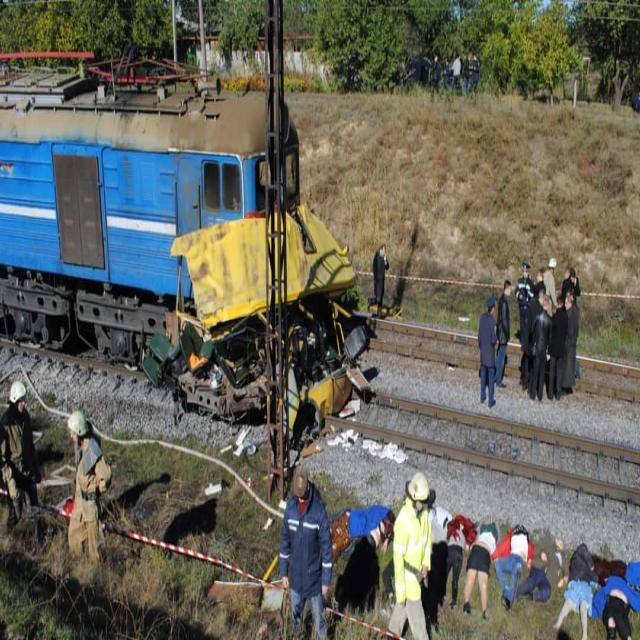Accident: (0, 48, 389, 450)
